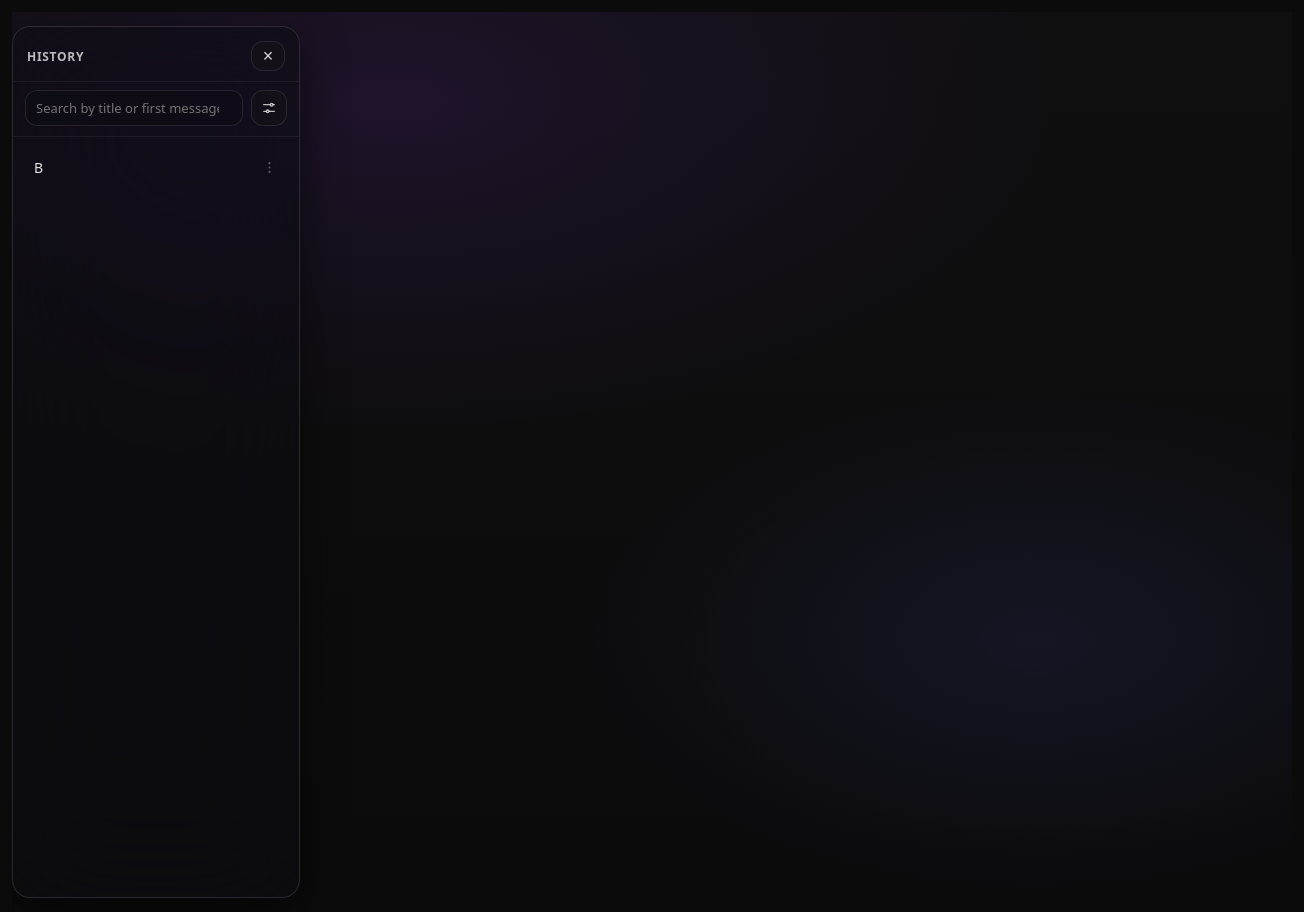
Scenario: opening a row menu does not open the session
Click the button with test id "session-menu-other".
click(269, 167)  # box [256,154,282,180]
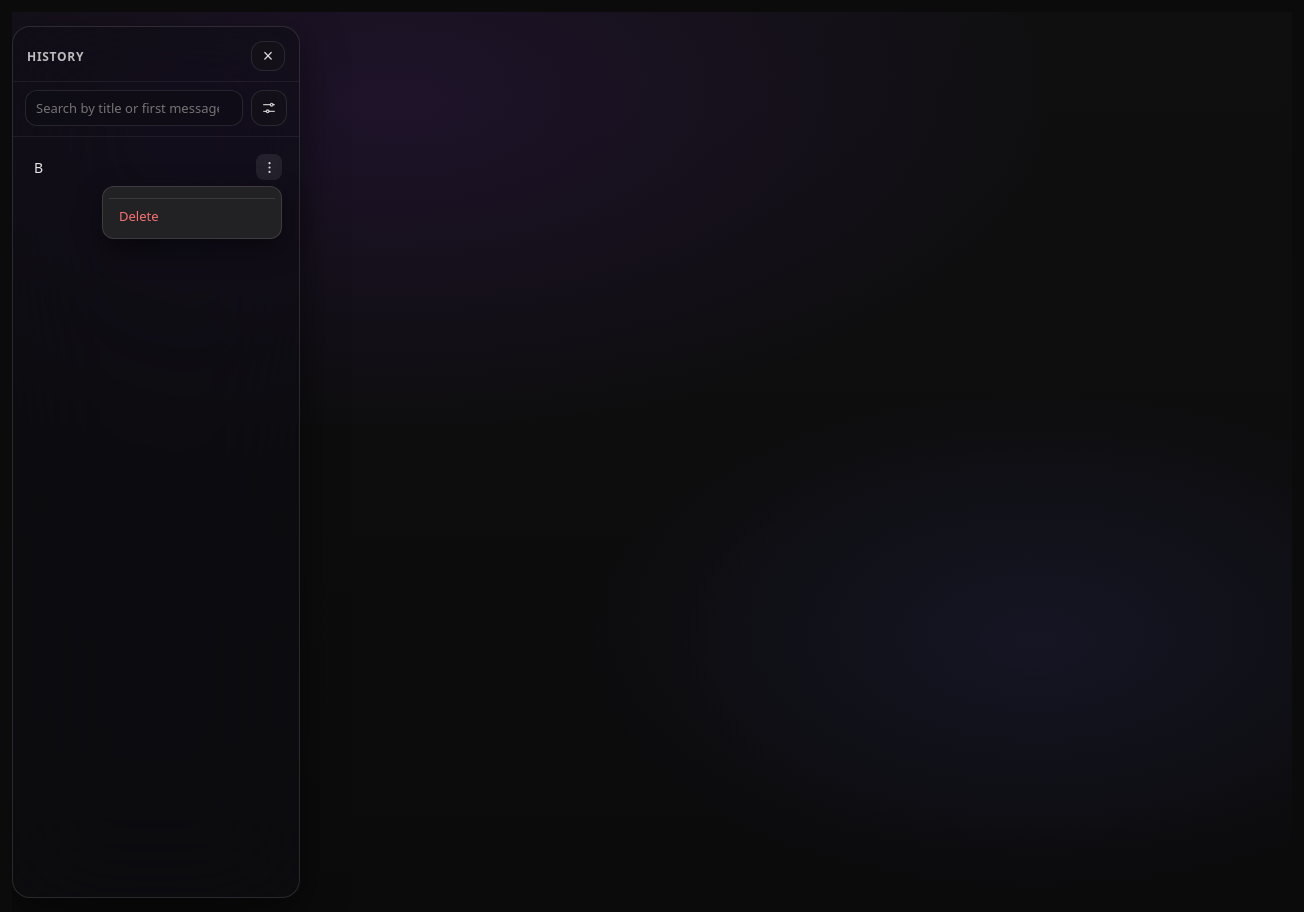
expect the menu item with test id "session-menu-delete-other" is shown: met, box [109,198,275,232]
